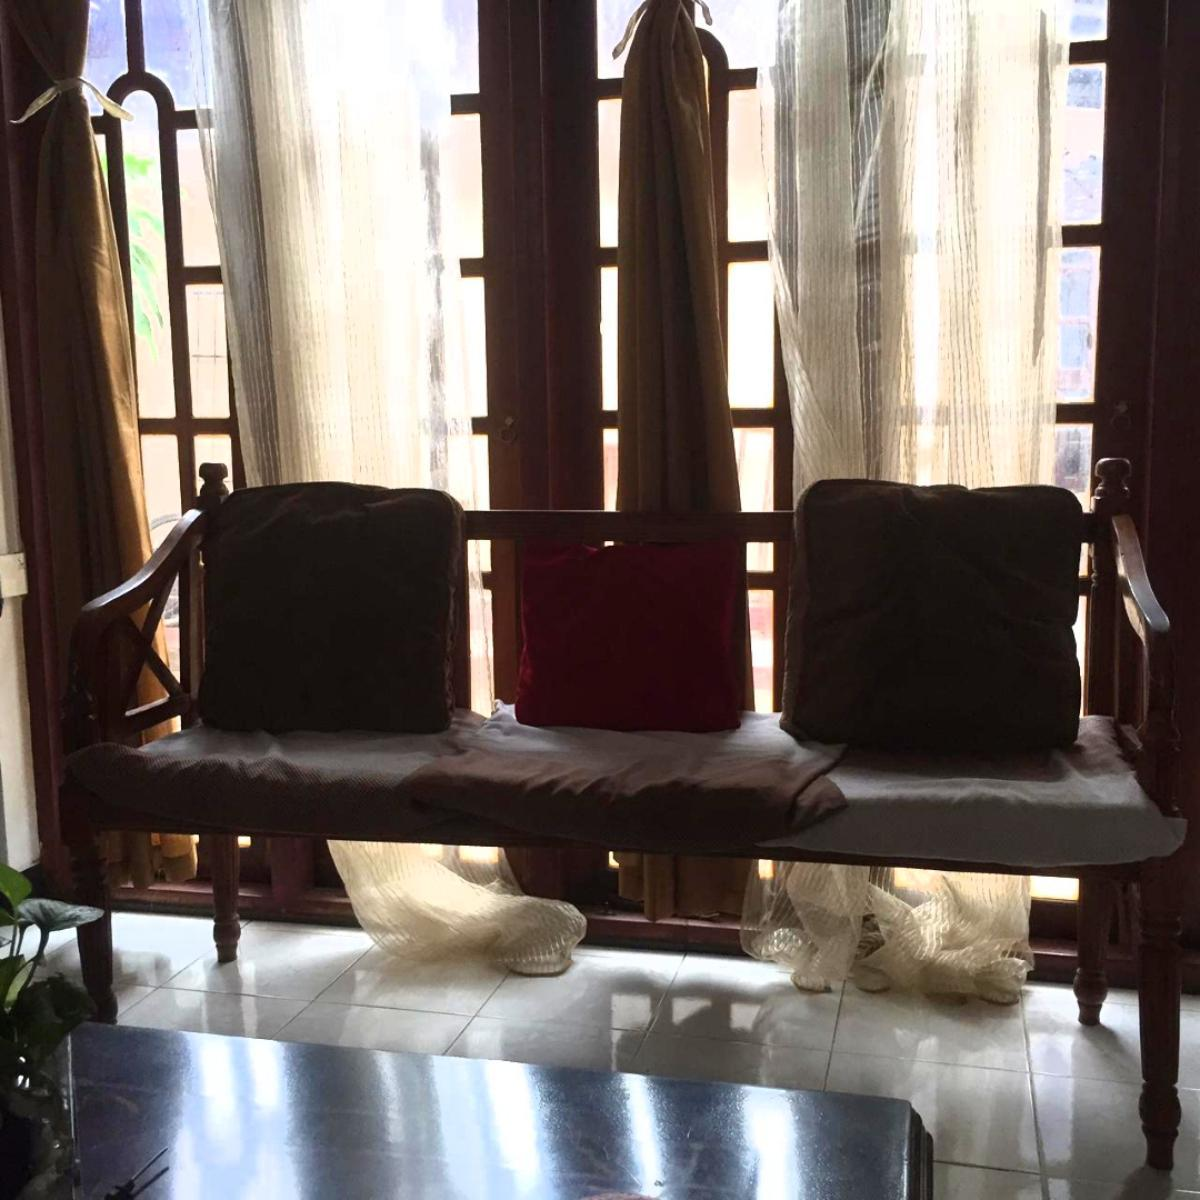Sofa: (64, 459, 1181, 1162)
